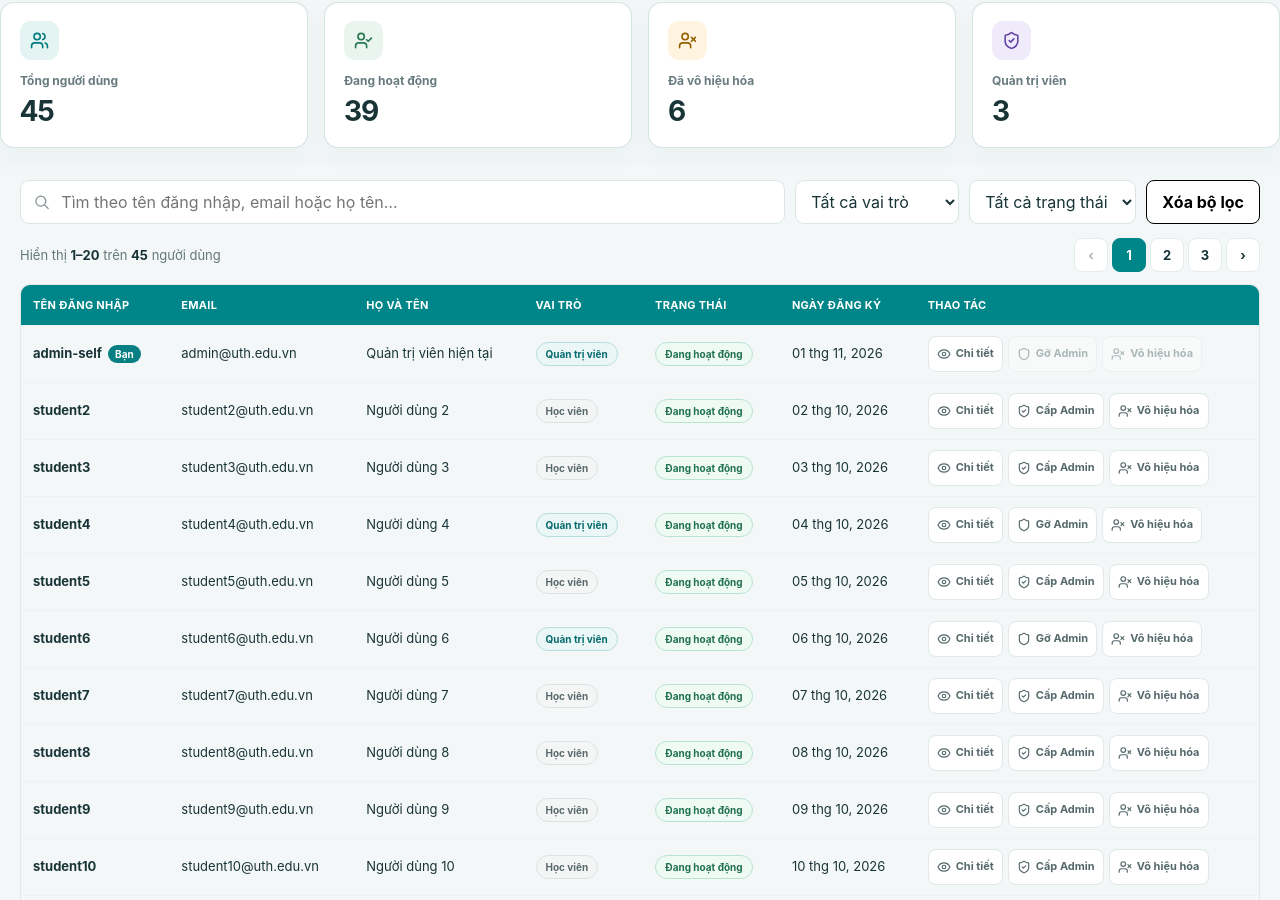
Test: AdminUsersPage › does not send a write request when opening or canceling an action confirmation
Later steps or results of the test are not shown.
Click the button "Cấp Admin" in the row of "student2@uth.edu.vn": (1056, 411) top-left (1008, 393), bottom-right (1104, 429)
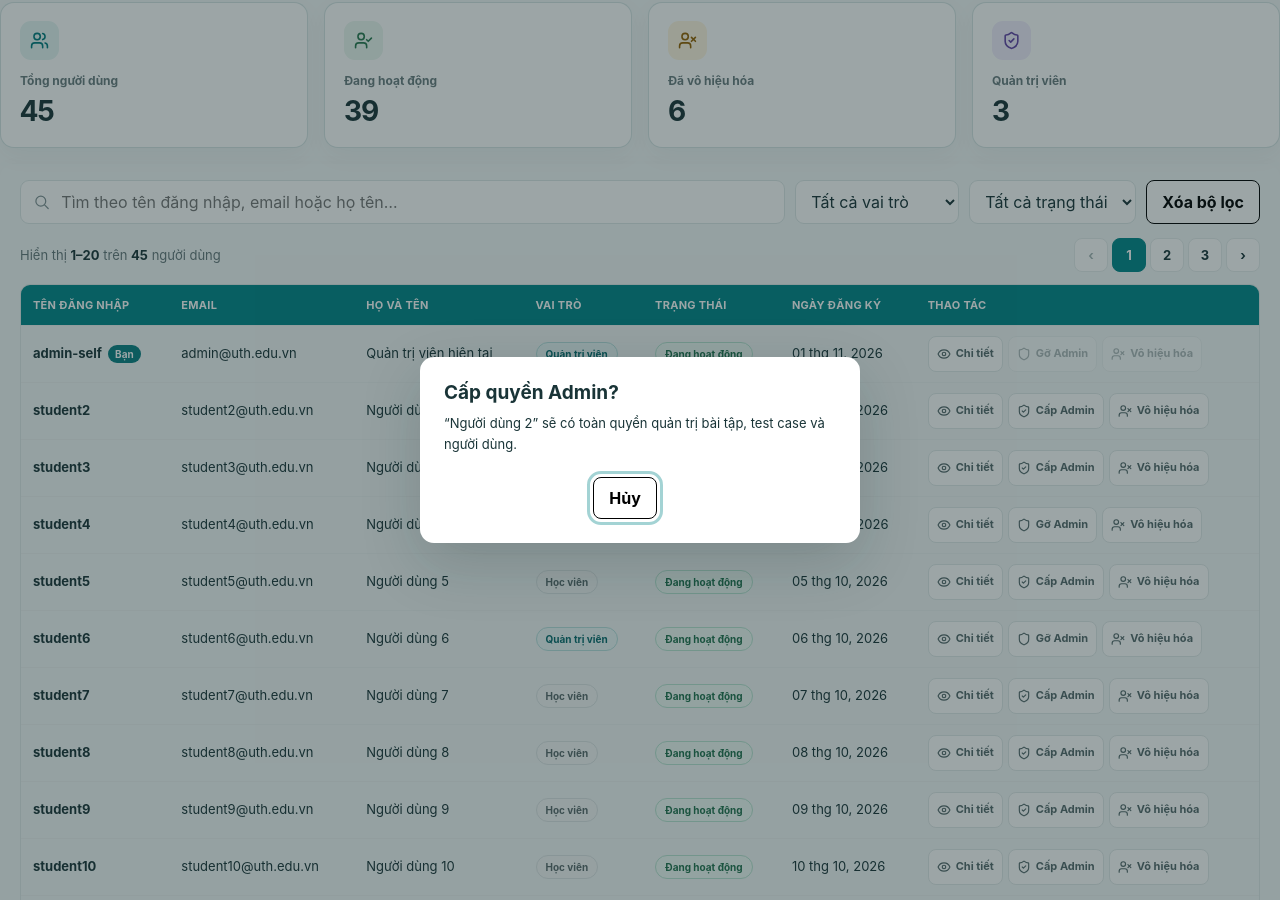
Expected: the dialog shows "Cấp quyền Admin?", top-left (444, 381), bottom-right (619, 404)
